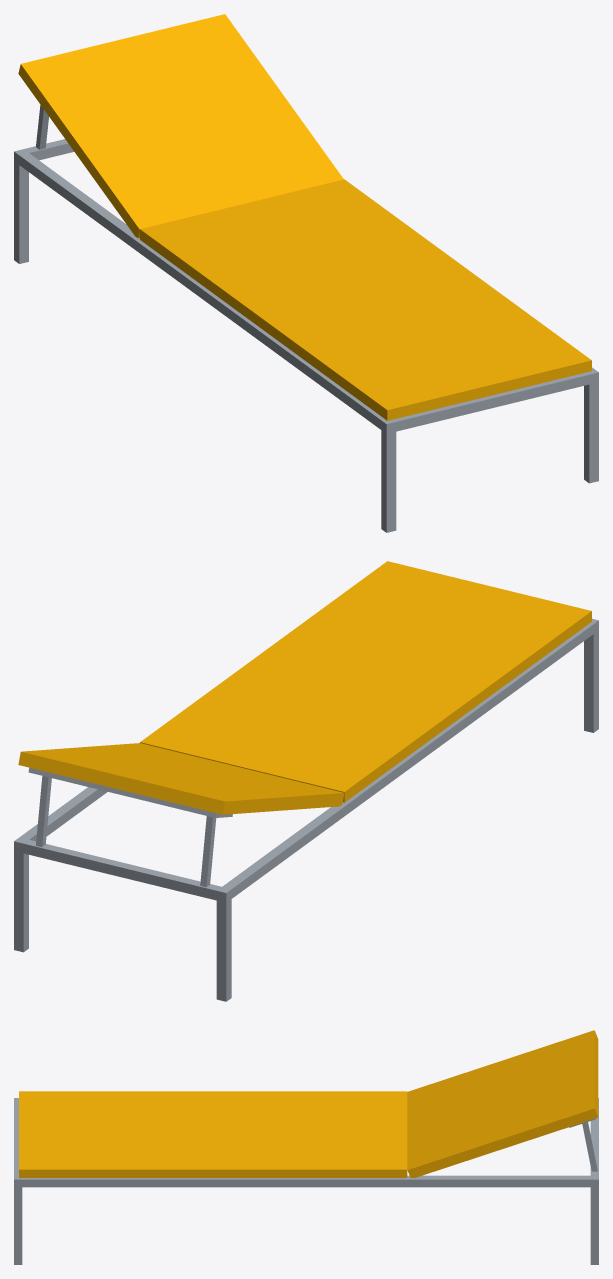
File: Lounger_01.fbx
3 views of the same model, one above another, from view 1: azimuth 30°, elevation 25°; view 2: azimuth 150°, elevation 25°; view 3: azimuth 270°, elevation 25° (orthographic). The views are drawn at different scales.
Visible parts, largest first — view 1: Lounger_01; view 2: Lounger_01; view 3: Lounger_01.
Part boxes in pixels (x1,y1,x2,y2): Lounger_01: (14, 14, 598, 532); Lounger_01: (14, 561, 598, 1001); Lounger_01: (14, 1030, 598, 1264).
Bounding box in the file's own units: 68.11 × 60.48 × 207.
